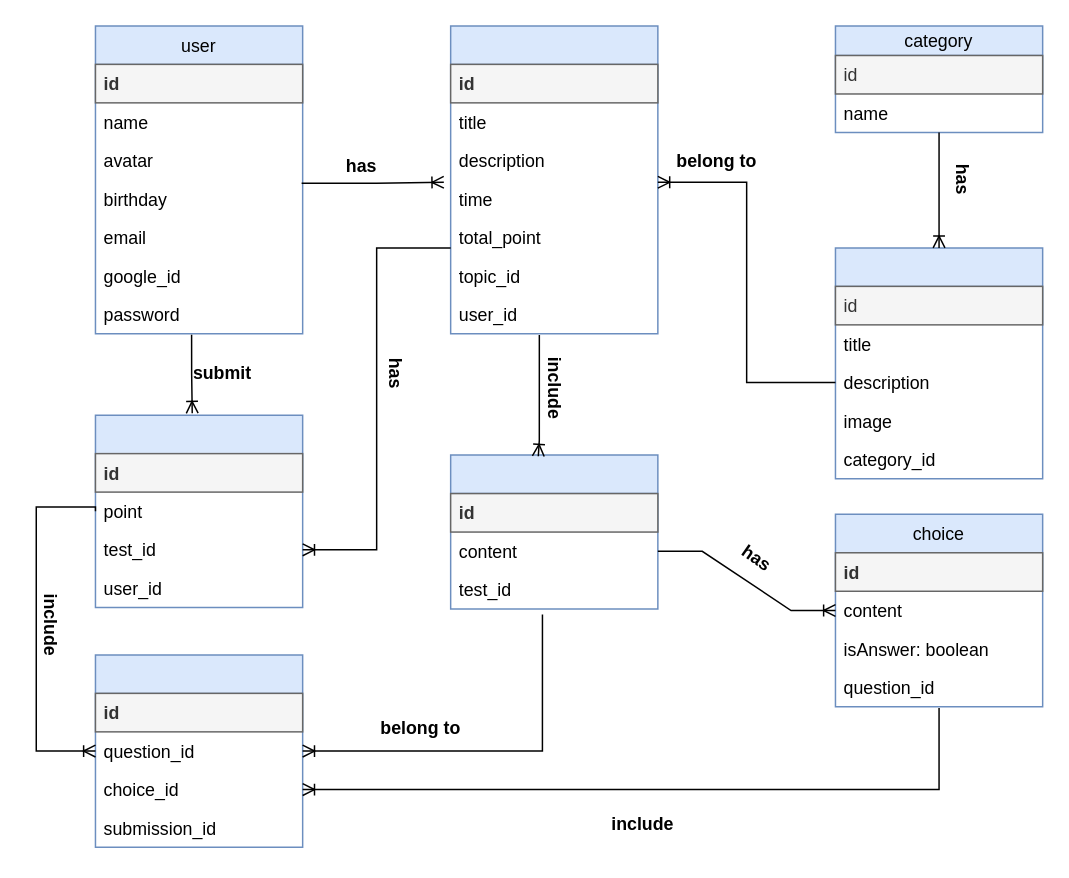
The diagram is 1069 pixels wide and 878 high, and some of its shapes have lost their labels. The box of each missing label's shape, as (x1, y1, x2, y2) in pixels:
choice submission: (94, 653, 303, 847)
question: (449, 454, 658, 609)
submission: (94, 414, 303, 608)
test: (449, 24, 658, 334)
topic: (834, 246, 1043, 479)
